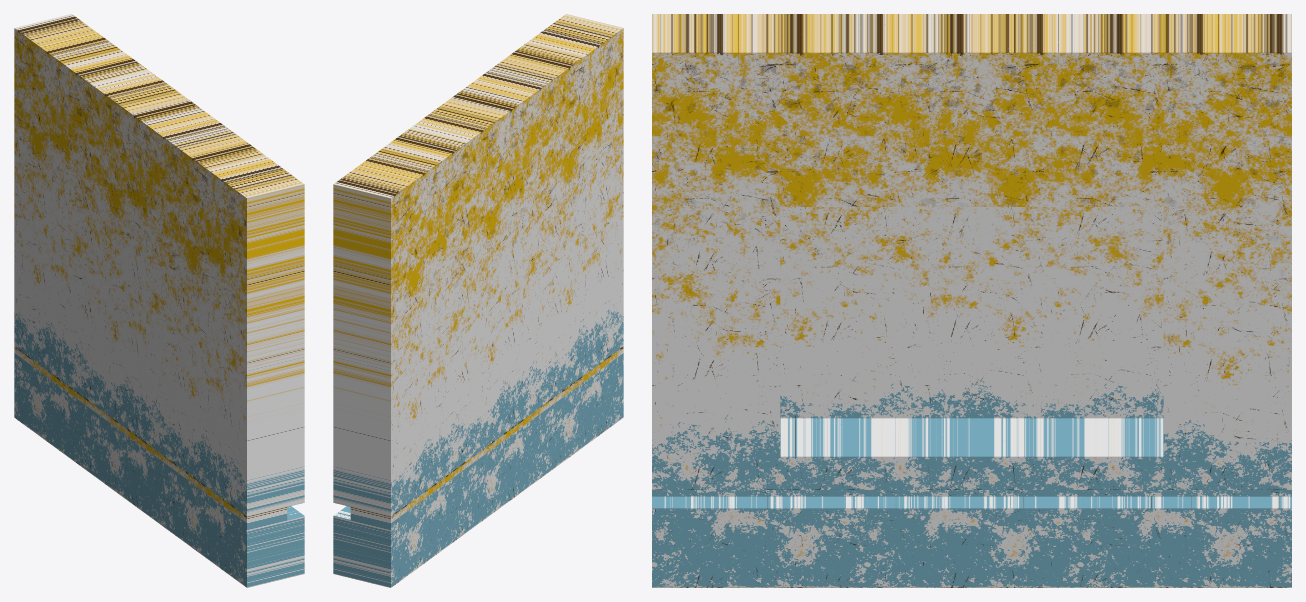
File: Modular_Dungeon_wall_window.fbx
3 renders of one model, left to right at view 1: azimuth 30°, elevation 25°; view 2: azimuth 150°, elevation 25°; view 3: azimuth 270°, elevation 25°, orthographic. The views are drawn at different scales.
Parts seen in each view (by area): view 1: Wand_Fenster_lo; view 2: Wand_Fenster_lo; view 3: Wand_Fenster_lo.
Boxes of the visible parts, left/top/right/bottom form: Wand_Fenster_lo: left=14, top=14, right=304, bottom=587; Wand_Fenster_lo: left=333, top=14, right=623, bottom=587; Wand_Fenster_lo: left=652, top=14, right=1291, bottom=587.
Size of the model in its own units: 40 by 259 by 280.
